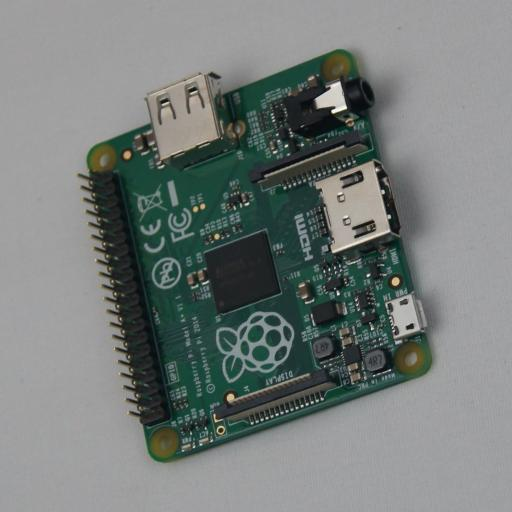Raspberry Pi A-: (78, 49, 435, 463)
